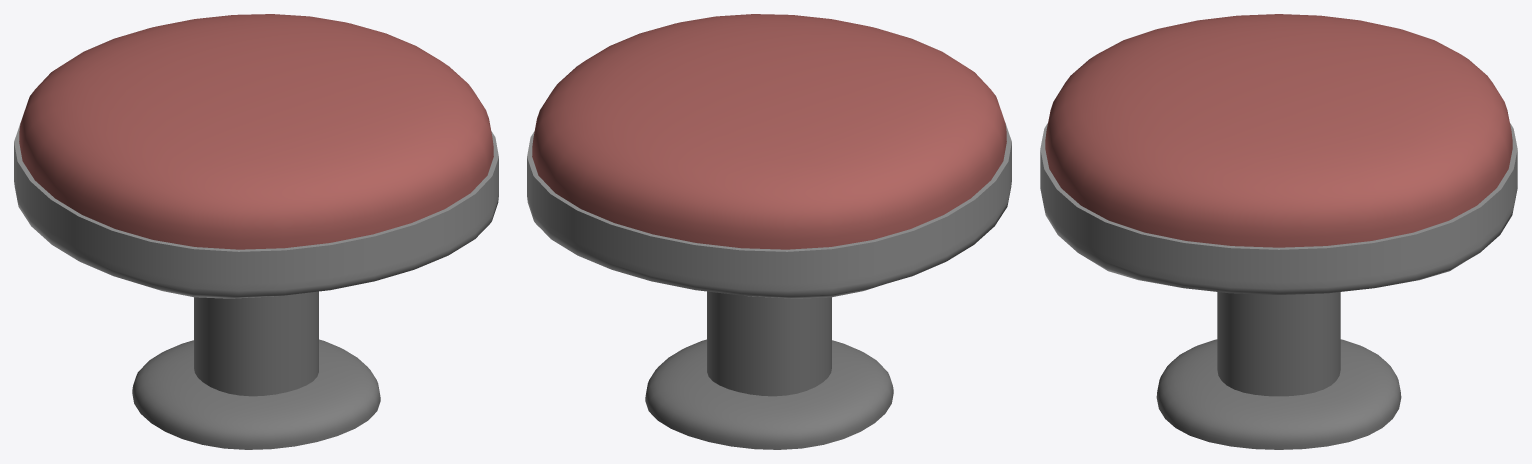
The model's file is chair.fbx.
3 renders of one model, left to right at view 1: azimuth 30°, elevation 25°; view 2: azimuth 150°, elevation 25°; view 3: azimuth 270°, elevation 25°, orthographic.
Visible parts, largest first — view 1: Cube.141; view 2: Cube.141; view 3: Cube.141.
Part boxes in pixels (bbox=[...]): Cube.141: bbox=[14, 14, 498, 449]; Cube.141: bbox=[527, 14, 1011, 449]; Cube.141: bbox=[1040, 14, 1517, 449].
Bounding box in the file's own units: 80.45 × 80.45 × 59.31.
